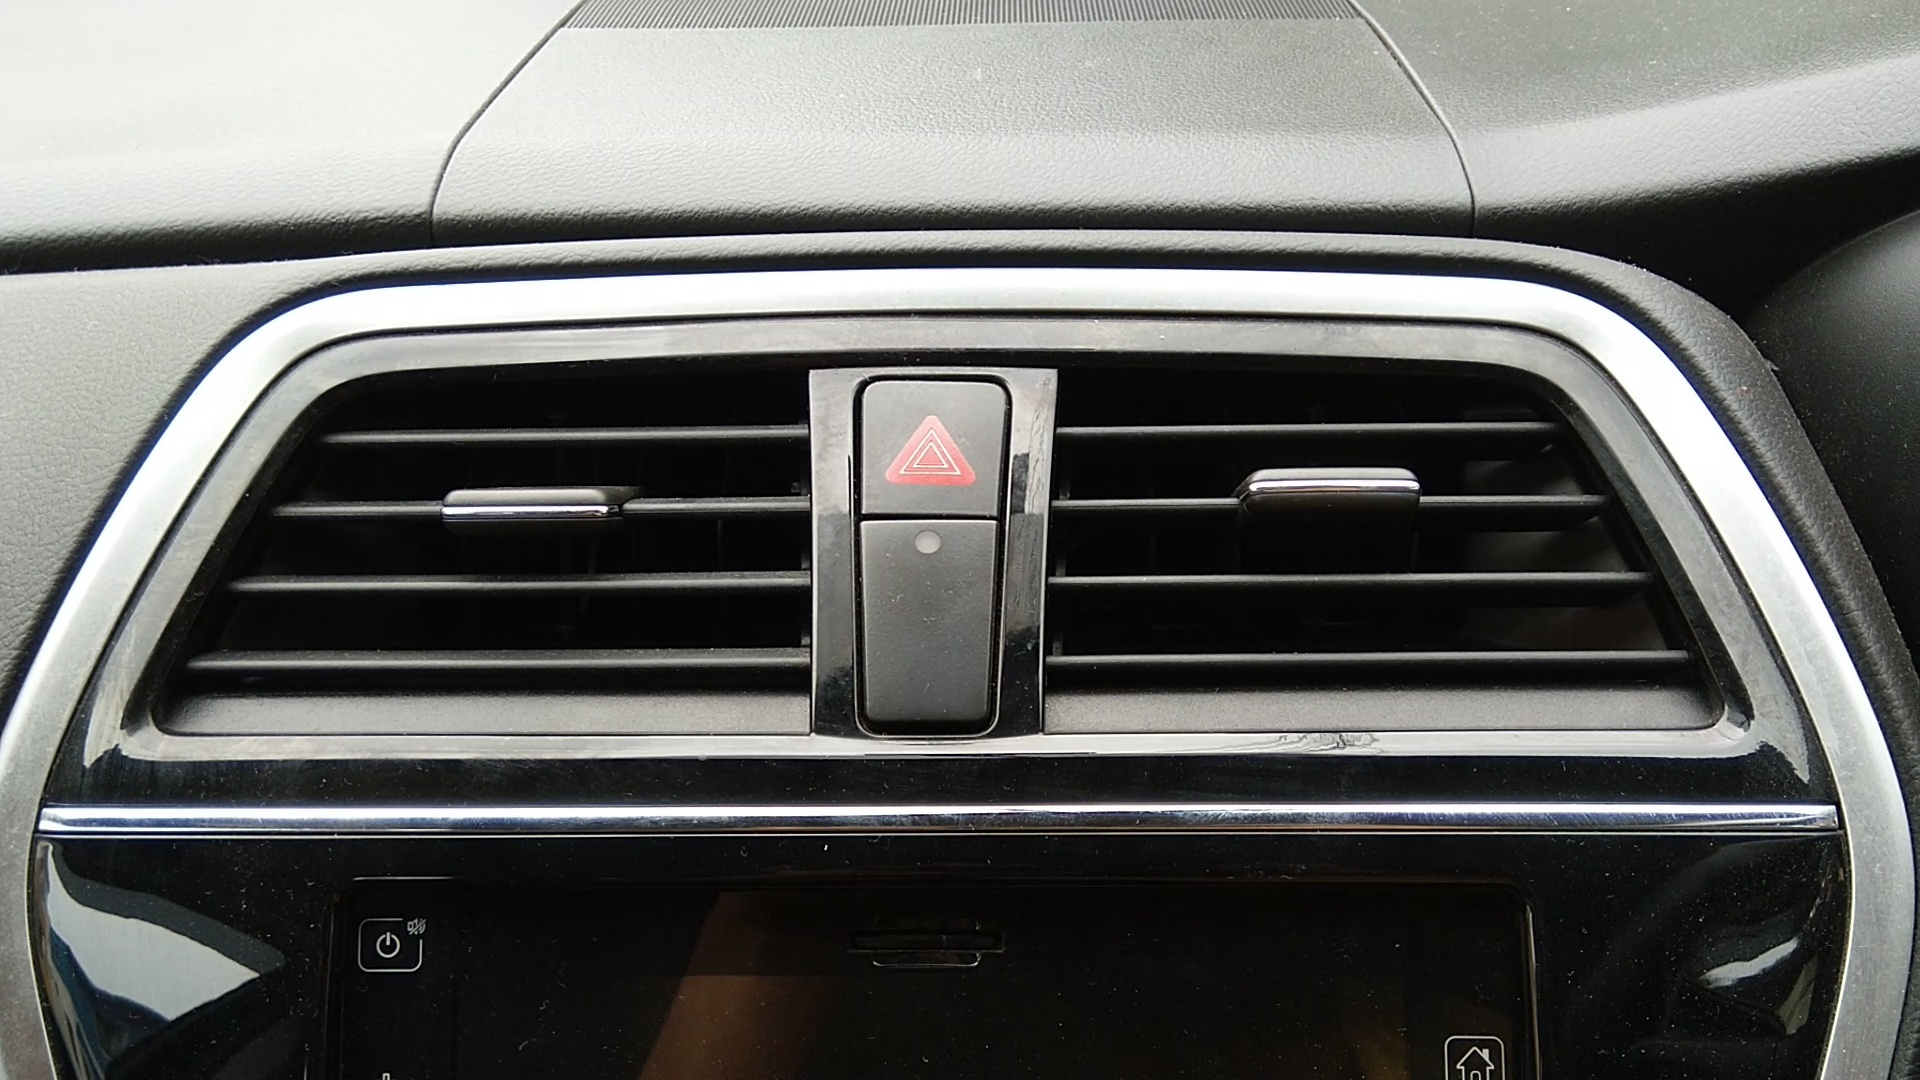parking_button: (866, 390, 992, 502)
